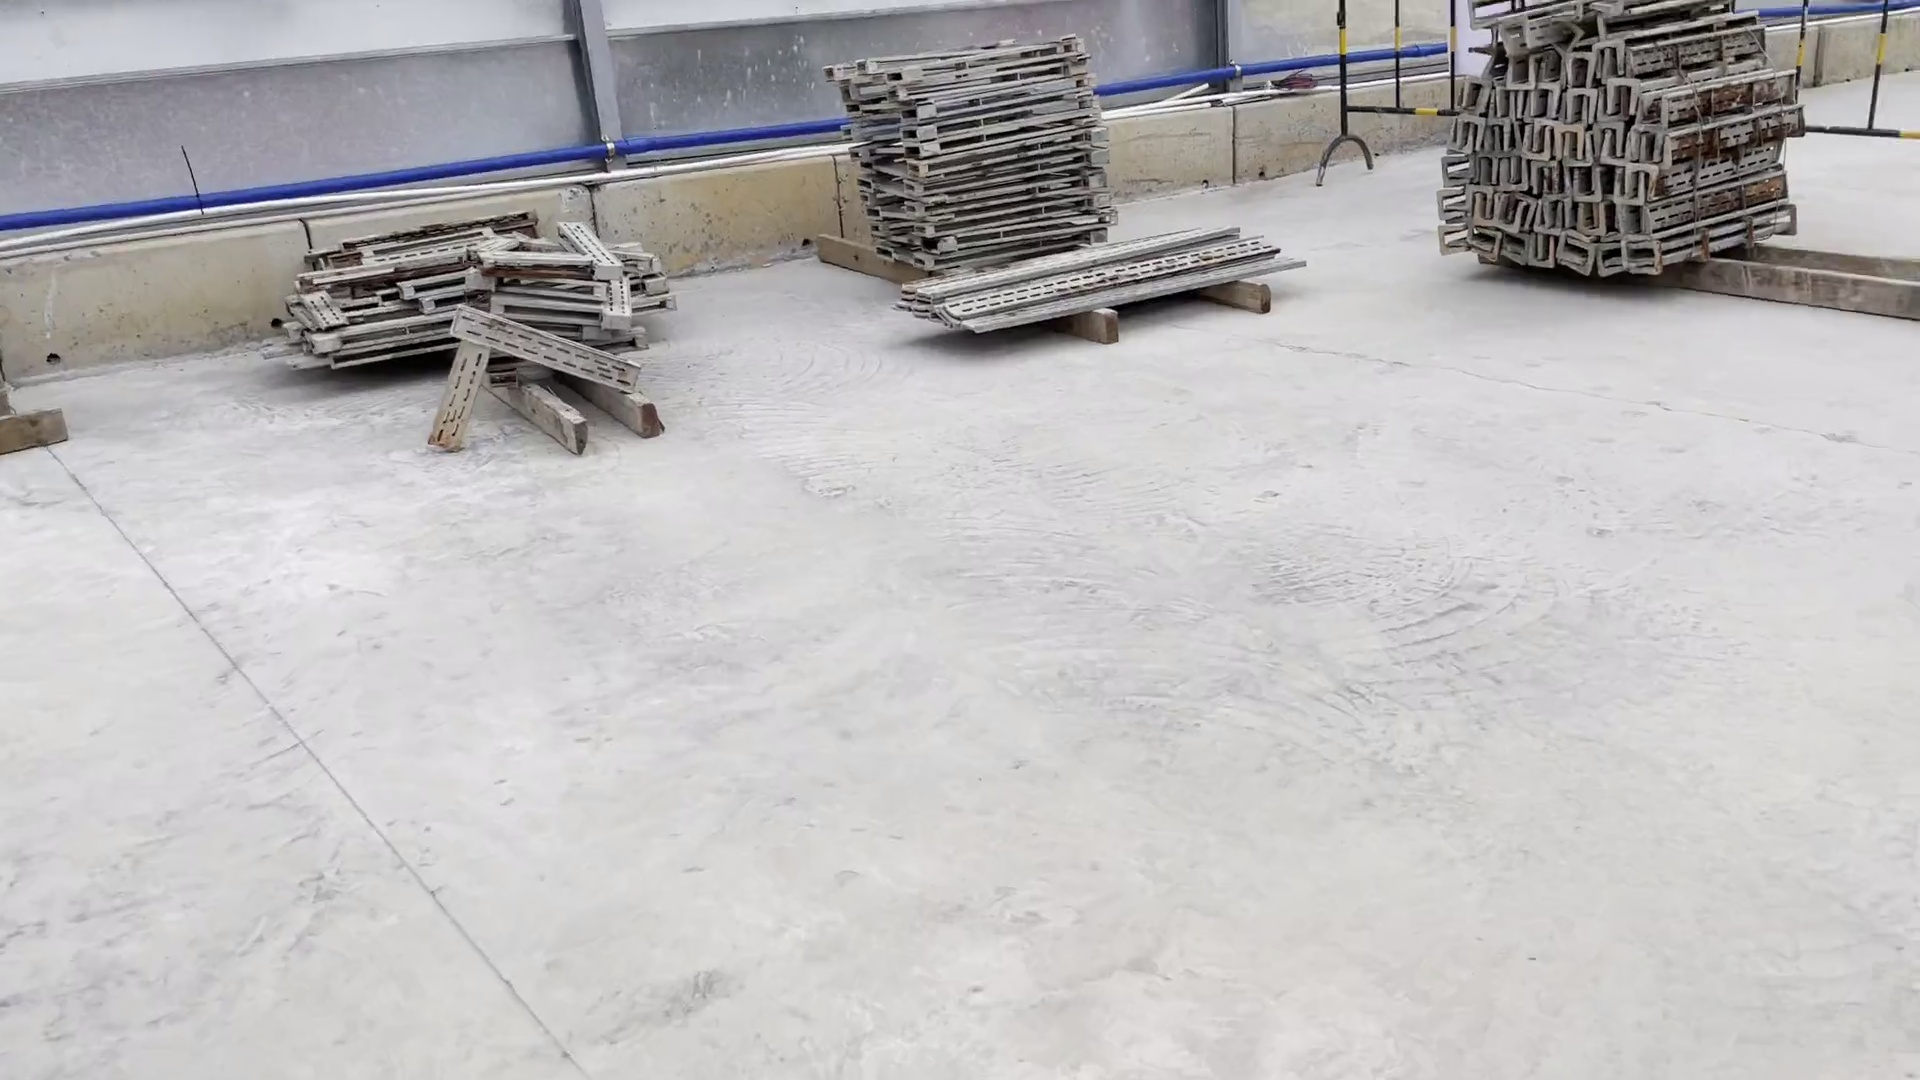fence: (1321, 3, 1920, 173)
